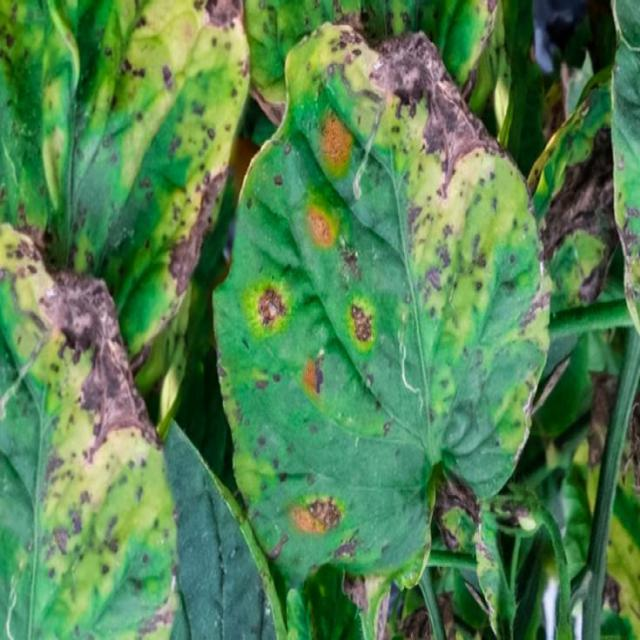Septoria: (258, 39, 535, 543), (0, 0, 256, 268), (0, 229, 162, 640)
